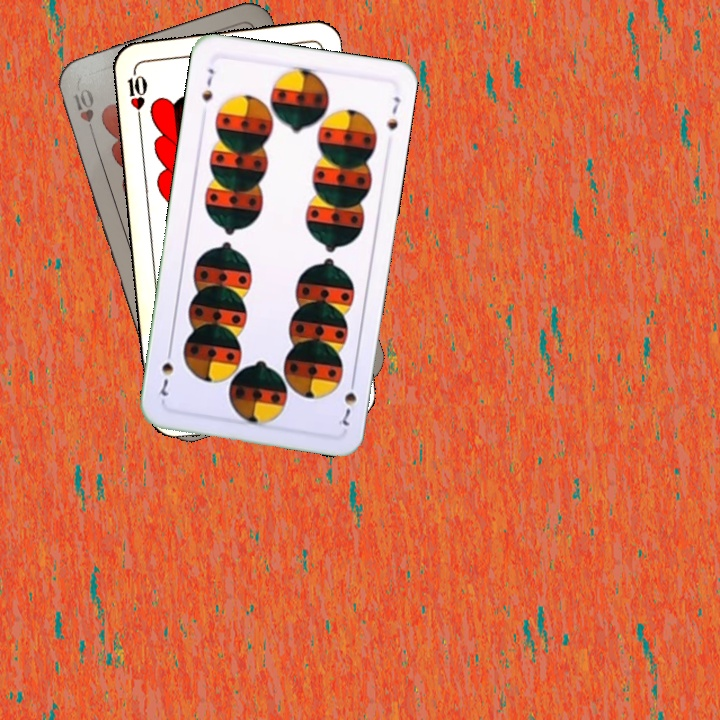H10: (69, 84, 98, 141), (123, 64, 150, 123)
S7: (334, 373, 359, 429), (198, 64, 217, 104)
